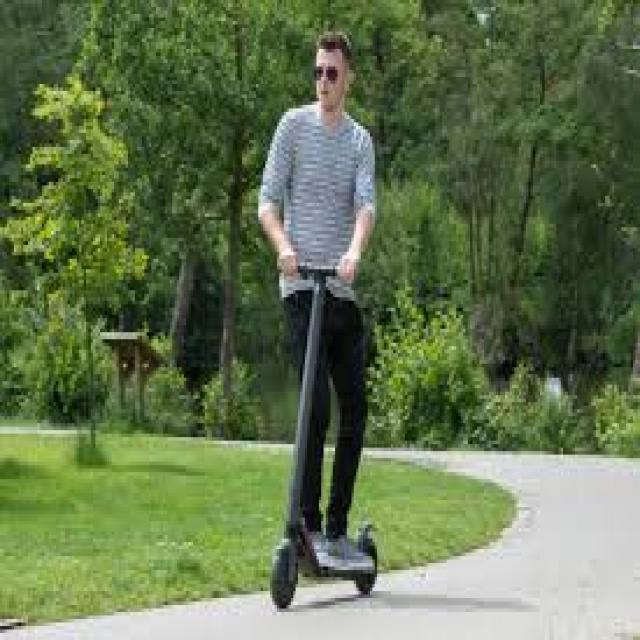non-helmet: (242, 30, 396, 617)
